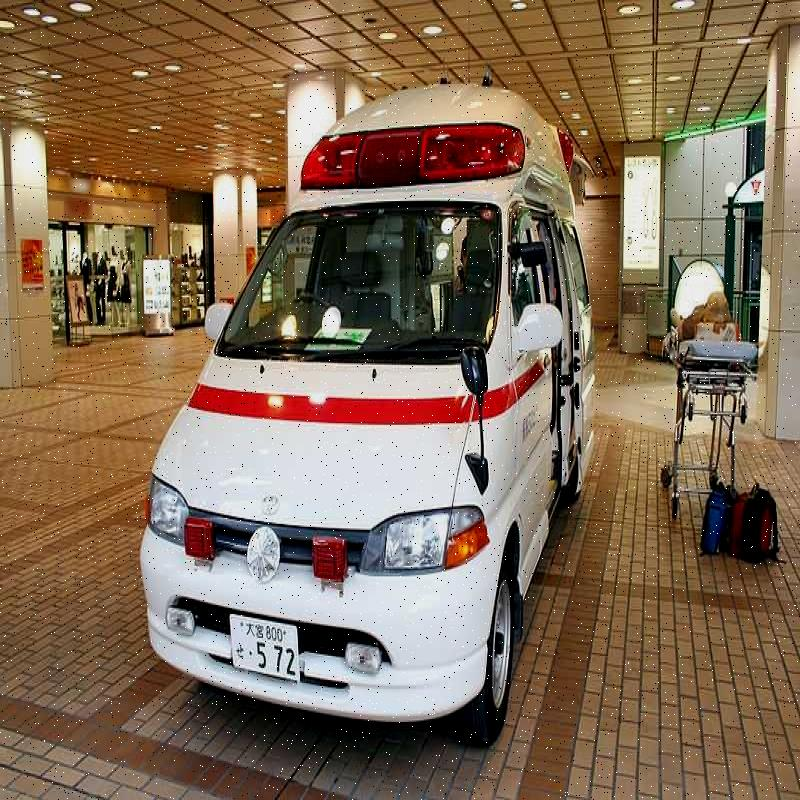AmbulanceSiren: (300, 99, 527, 188)
